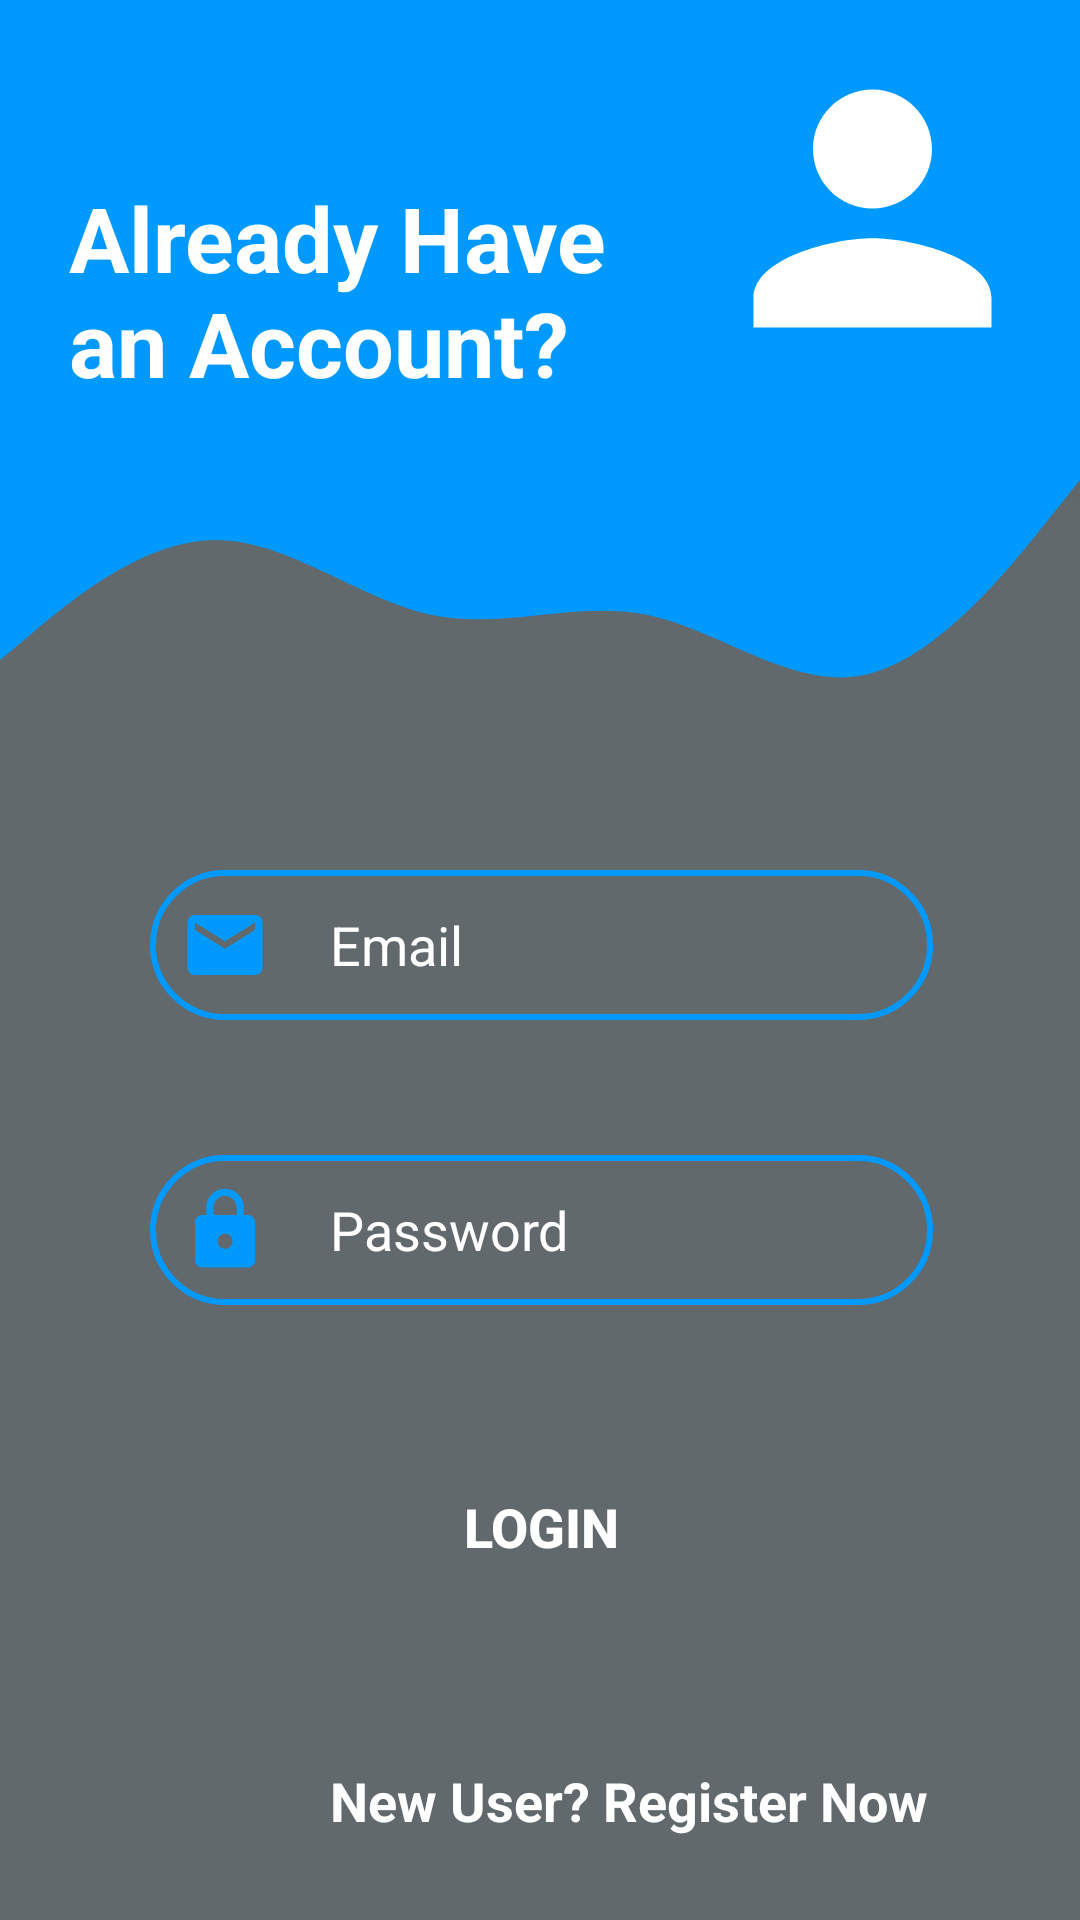

Point at icon controls on the screen. Image size 1080w x 1920h, points as point (x, y).
person: point (872, 208)
